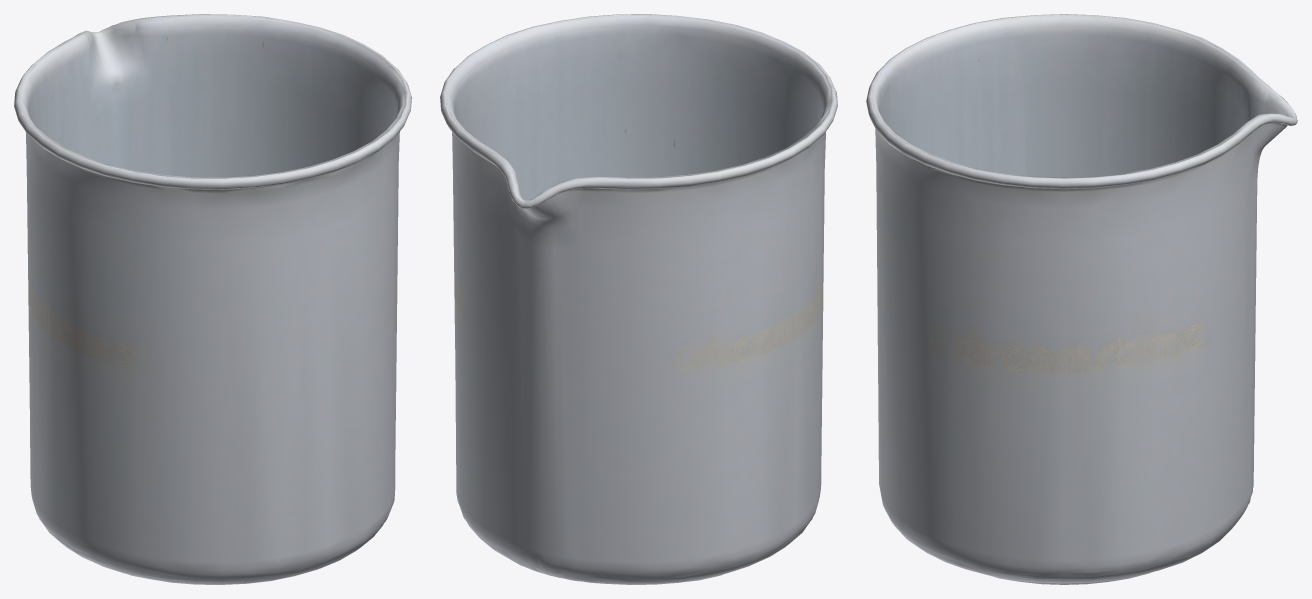
The model's file is glass_beaker_1778512516.glb.
3 renders of one model, left to right at view 1: azimuth 30°, elevation 25°; view 2: azimuth 150°, elevation 25°; view 3: azimuth 270°, elevation 25°, orthographic.
Visible parts, largest first — view 1: tripo_node_cddb5993-c0f1-483d-b69b-ddb46d10b3d4; view 2: tripo_node_cddb5993-c0f1-483d-b69b-ddb46d10b3d4; view 3: tripo_node_cddb5993-c0f1-483d-b69b-ddb46d10b3d4.
Boxes of the visible parts, x1=… form: tripo_node_cddb5993-c0f1-483d-b69b-ddb46d10b3d4: x1=14, y1=14, x2=411, y2=584; tripo_node_cddb5993-c0f1-483d-b69b-ddb46d10b3d4: x1=440, y1=14, x2=837, y2=584; tripo_node_cddb5993-c0f1-483d-b69b-ddb46d10b3d4: x1=866, y1=14, x2=1297, y2=584.
Bounding box in the file's own units: 0.8418 × 0.998 × 0.916.
1 material, 1 textured.
